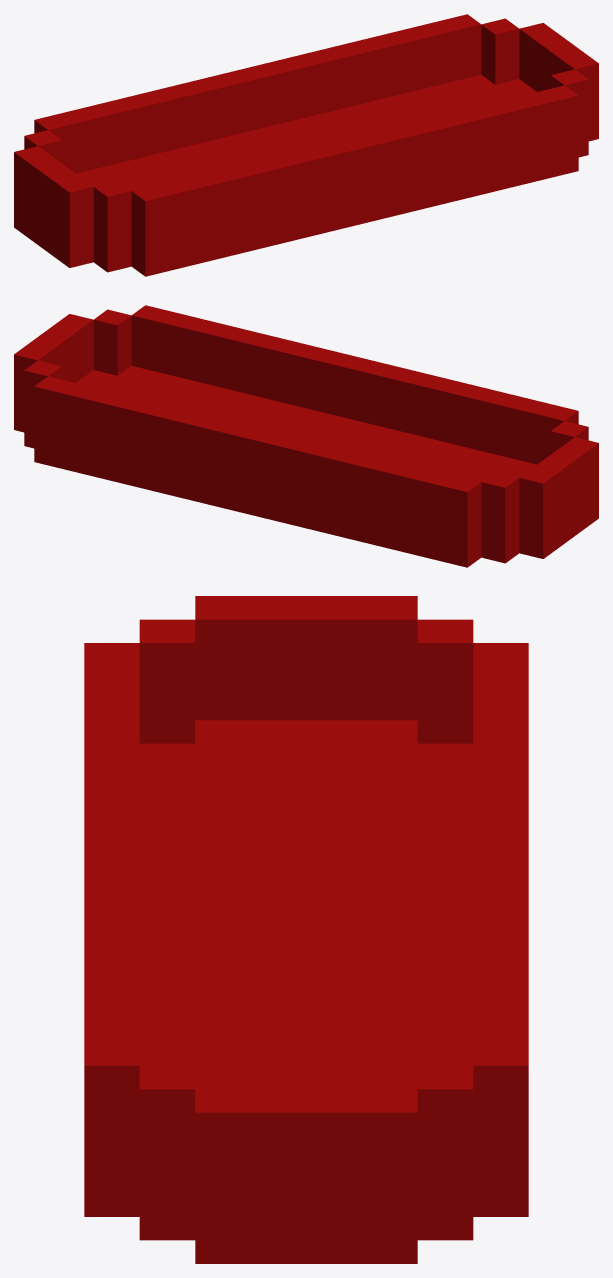
The model's file is ClickMe.obj.
3 views of the same model, one above another, from view 1: azimuth 30°, elevation 25°; view 2: azimuth 150°, elevation 25°; view 3: azimuth 270°, elevation 25° (orthographic). The views are drawn at different scales.
Bounding box in the file's own units: 2.2 × 0.3 × 0.8.
Materials: 1 (1 with a texture image).
